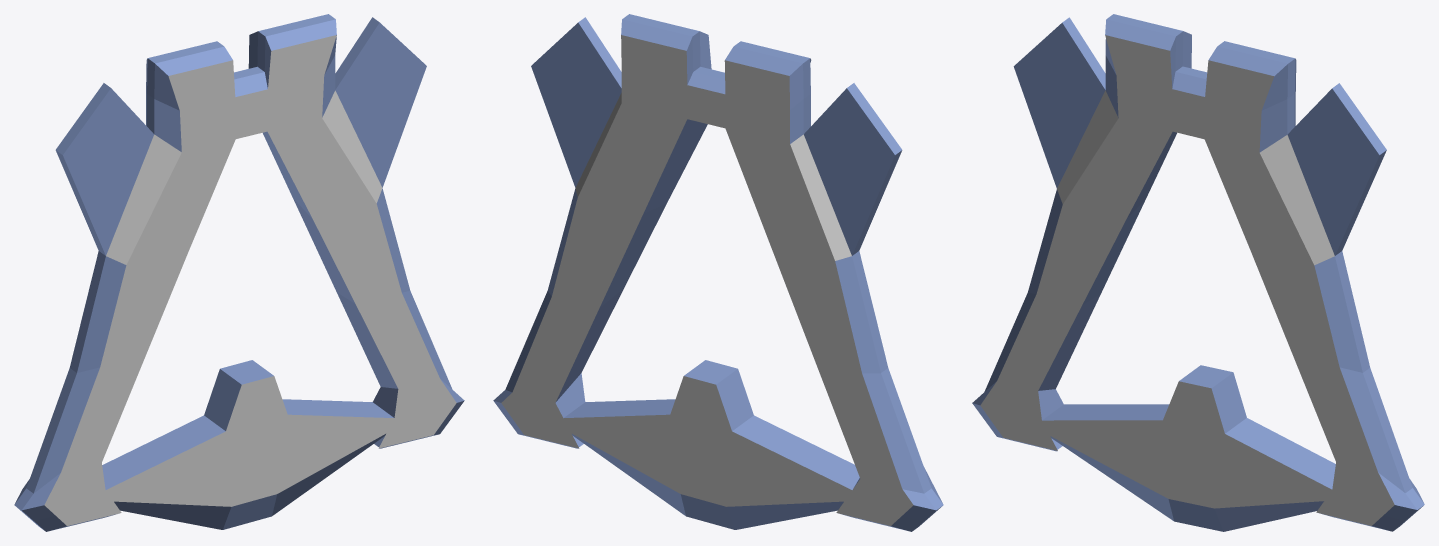
Rendered from A_ship.fbx.
The picture shows the model from 3 angles, left to right: view 1: azimuth 30°, elevation 25°; view 2: azimuth 150°, elevation 25°; view 3: azimuth 330°, elevation 25°; orthographic projection.
Parts seen in each view (by area): view 1: lettership; view 2: lettership; view 3: lettership.
Boxes of the visible parts, x1=… form: lettership: x1=14, y1=14, x2=464, y2=531; lettership: x1=493, y1=14, x2=943, y2=531; lettership: x1=972, y1=14, x2=1424, y2=531.
Bounding box in the file's own units: 1.13 × 1.18 × 0.0969.
